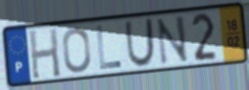2: (189, 11, 221, 65)
H: (27, 26, 63, 81)
L: (94, 24, 123, 71)
N: (155, 14, 190, 67)
O: (61, 25, 93, 75)
U: (124, 17, 157, 69)
